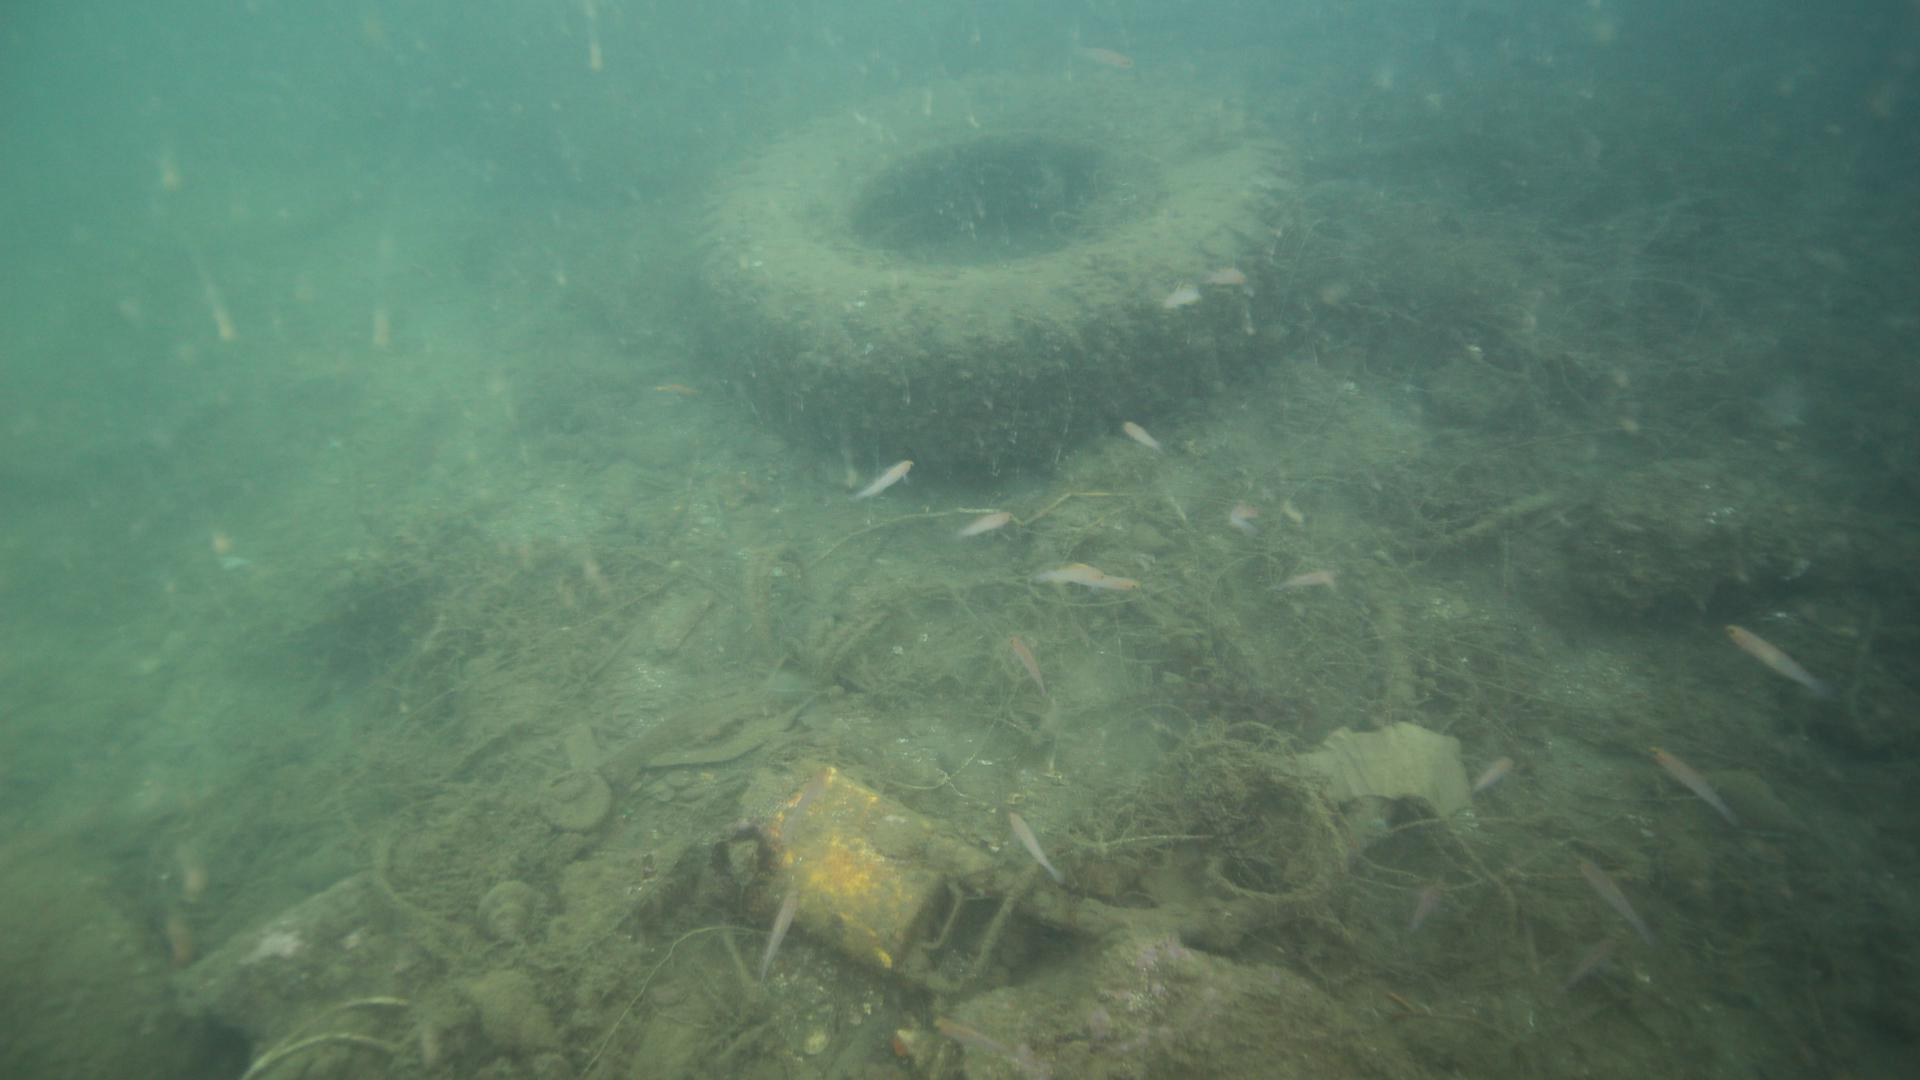tire: (688, 65, 1311, 473)
